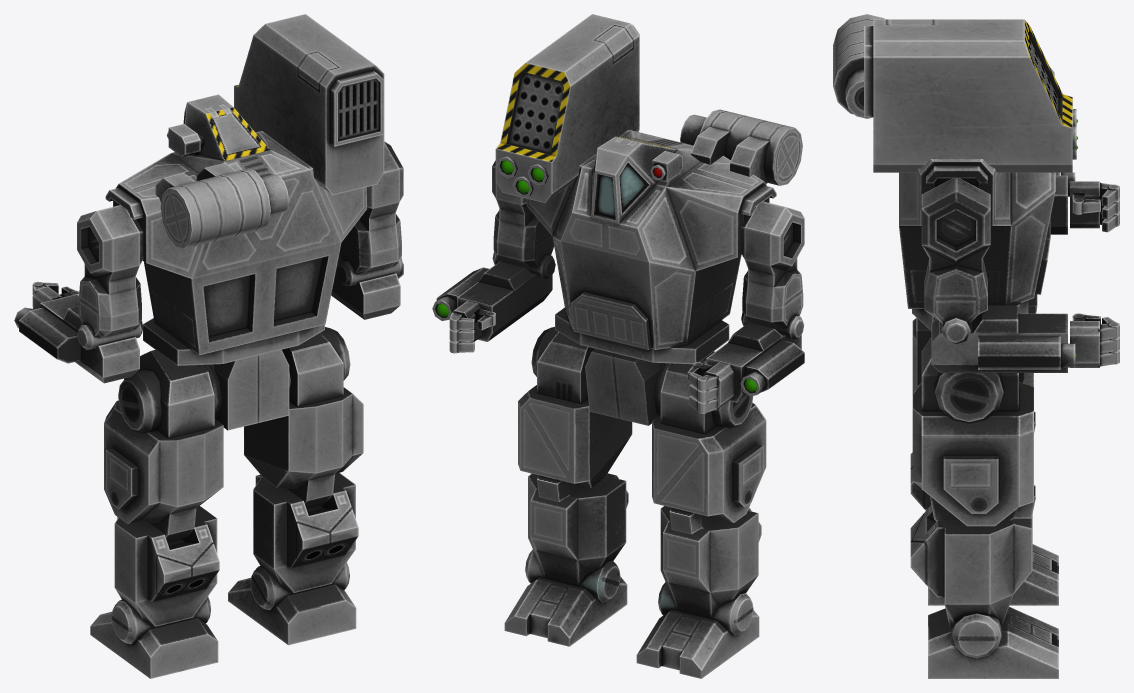
The model's file is Hunchback Master.FBX.
The picture shows the model from 3 angles, left to right: view 1: azimuth 30°, elevation 25°; view 2: azimuth 150°, elevation 25°; view 3: azimuth 270°, elevation 25°; orthographic projection. The views are drawn at different scales.
Parts seen in each view (by area): view 1: torso, mantlet_1 4J, lupperleg, rupperleg, rlowerleg, llowerleg, lupperarm, counterweight, rupperarm, llowerarm, pelvis, rfoot (+4 smaller); view 2: torso, mantlet_1 4J, lupperleg, rupperleg, rlowerleg, llowerleg, lupperarm, counterweight, rfoot, lfoot, pelvis, rlowerarm (+5 smaller); view 3: mantlet_1 4J, rupperleg, torso, rlowerleg, rupperarm, rfoot, rlowerarm, counterweight, handr, handl, lfoot, armcover clan R (+3 smaller).
Part boxes in pixels (x1,y1,x2,y2): torso: (105, 94, 366, 365); mantlet_1 4J: (234, 14, 384, 195); lupperleg: (104, 350, 223, 542); rupperleg: (244, 327, 363, 508); rlowerleg: (250, 472, 358, 610); llowerleg: (111, 506, 219, 644); lupperarm: (77, 205, 143, 349); counterweight: (155, 163, 288, 248); rupperarm: (337, 141, 403, 286); llowerarm: (14, 294, 139, 383); pelvis: (203, 349, 290, 430); rfoot: (228, 578, 356, 645); torso: (526, 130, 776, 364); mantlet_1 4J: (495, 14, 639, 202); lupperleg: (652, 351, 766, 534); rupperleg: (518, 327, 632, 501); rlowerleg: (525, 473, 628, 602); llowerleg: (658, 506, 761, 634); lupperarm: (741, 201, 804, 339); counterweight: (680, 109, 802, 185); rfoot: (504, 577, 627, 646); lfoot: (636, 609, 759, 678); pelvis: (585, 349, 669, 425); rlowerarm: (432, 261, 552, 341); mantlet_1 4J: (864, 19, 1077, 172); rupperleg: (912, 337, 1035, 526); torso: (899, 67, 1055, 330); rlowerleg: (910, 505, 1032, 658); rupperarm: (921, 178, 990, 344); rfoot: (928, 606, 1058, 678); rlowerarm: (931, 305, 1076, 372); counterweight: (833, 14, 884, 118); handr: (1070, 313, 1119, 367); handl: (1070, 181, 1119, 232); lfoot: (928, 544, 1058, 605); armcover clan R: (931, 333, 1067, 364).
Bounding box in the file's own units: 37.46 × 60.27 × 24.67.
1 material, 1 textured.
